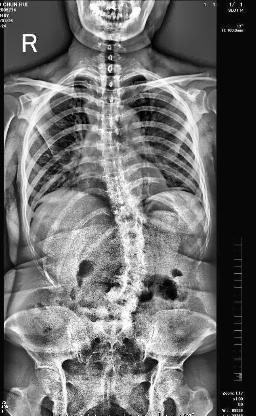Vertebrae: (104, 286, 146, 304), (99, 306, 135, 320), (118, 256, 152, 270), (120, 272, 154, 286), (110, 207, 142, 221), (118, 226, 150, 240), (98, 130, 126, 144), (96, 74, 126, 86), (98, 116, 128, 128), (100, 89, 130, 99), (100, 146, 124, 158), (107, 190, 135, 200), (122, 244, 150, 254), (99, 104, 129, 113), (102, 176, 128, 186), (102, 162, 124, 172)
